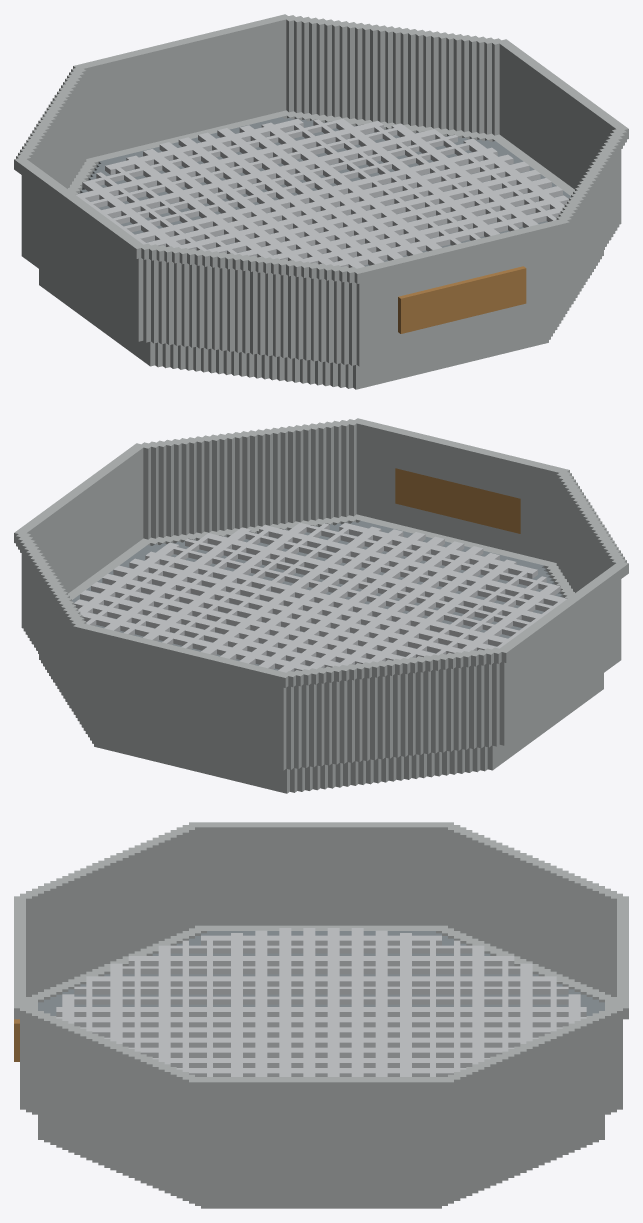
File: sieve_steel.glb
3 views of the same model, one above another, from view 1: azimuth 30°, elevation 25°; view 2: azimuth 150°, elevation 25°; view 3: azimuth 270°, elevation 25° (orthographic). The views are drawn at different scales.
Visible parts, largest first — view 1: sieve_steel:compound; view 2: sieve_steel:compound; view 3: sieve_steel:compound.
Part boxes in pixels (x1,y1,x2,y2): sieve_steel:compound: (14,14,628,389); sieve_steel:compound: (14,418,628,793); sieve_steel:compound: (14,822,628,1208).
Bounding box in the file's own units: 0.204 × 0.05 × 0.204.
